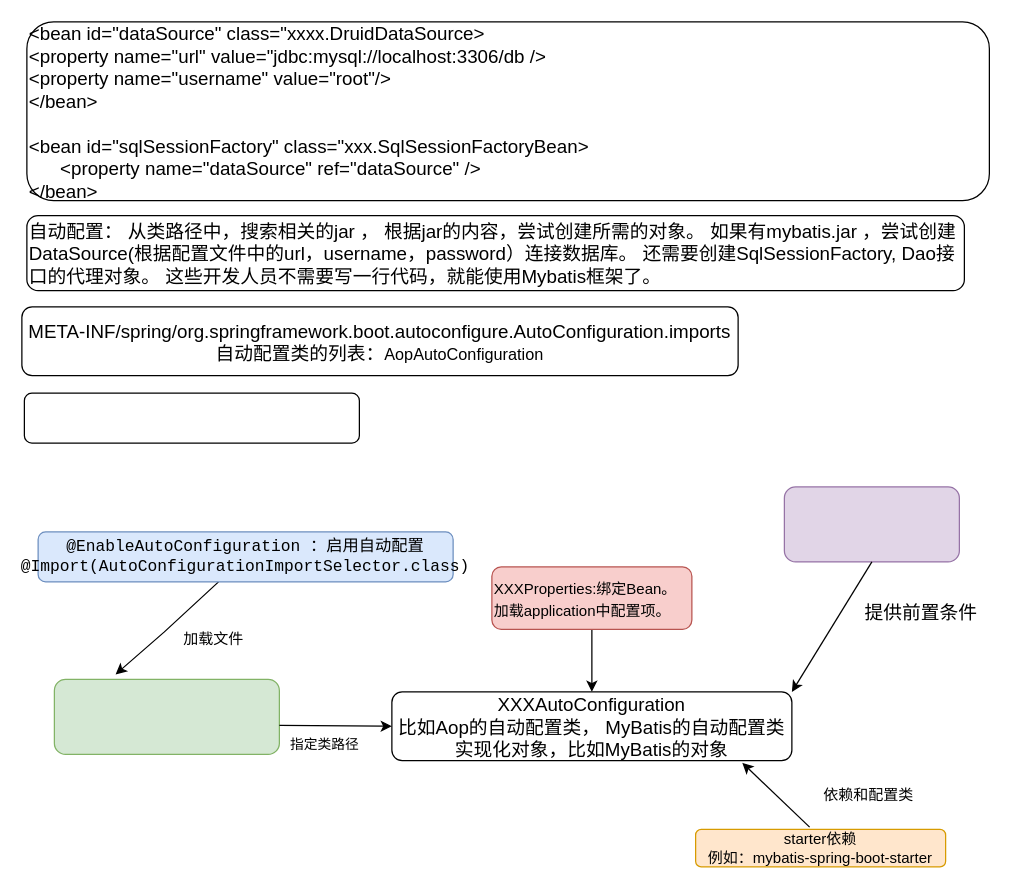
The diagram is 1011 pixels wide and 889 high, and some of its shapes have lost their labels. The centre of each missing label's shape, as x and y in pixels:
"@AutoConfiguration:新的注解， 自动配置类使用的。代替@Configuration" belongs at (191,417).
"@Conditional 条件注解，当符合条件 自动配置有效" belongs at (871,524).
"文件xx.imports 自动配置类的列表，SpringBoot遍历列表，加载各个配置类" belongs at (166,716).
